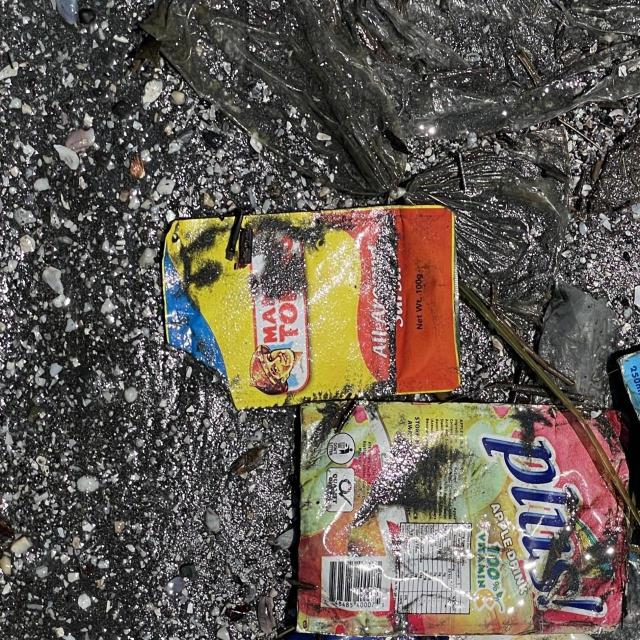plastic_waste: (295, 406, 627, 640), (162, 206, 458, 415)
